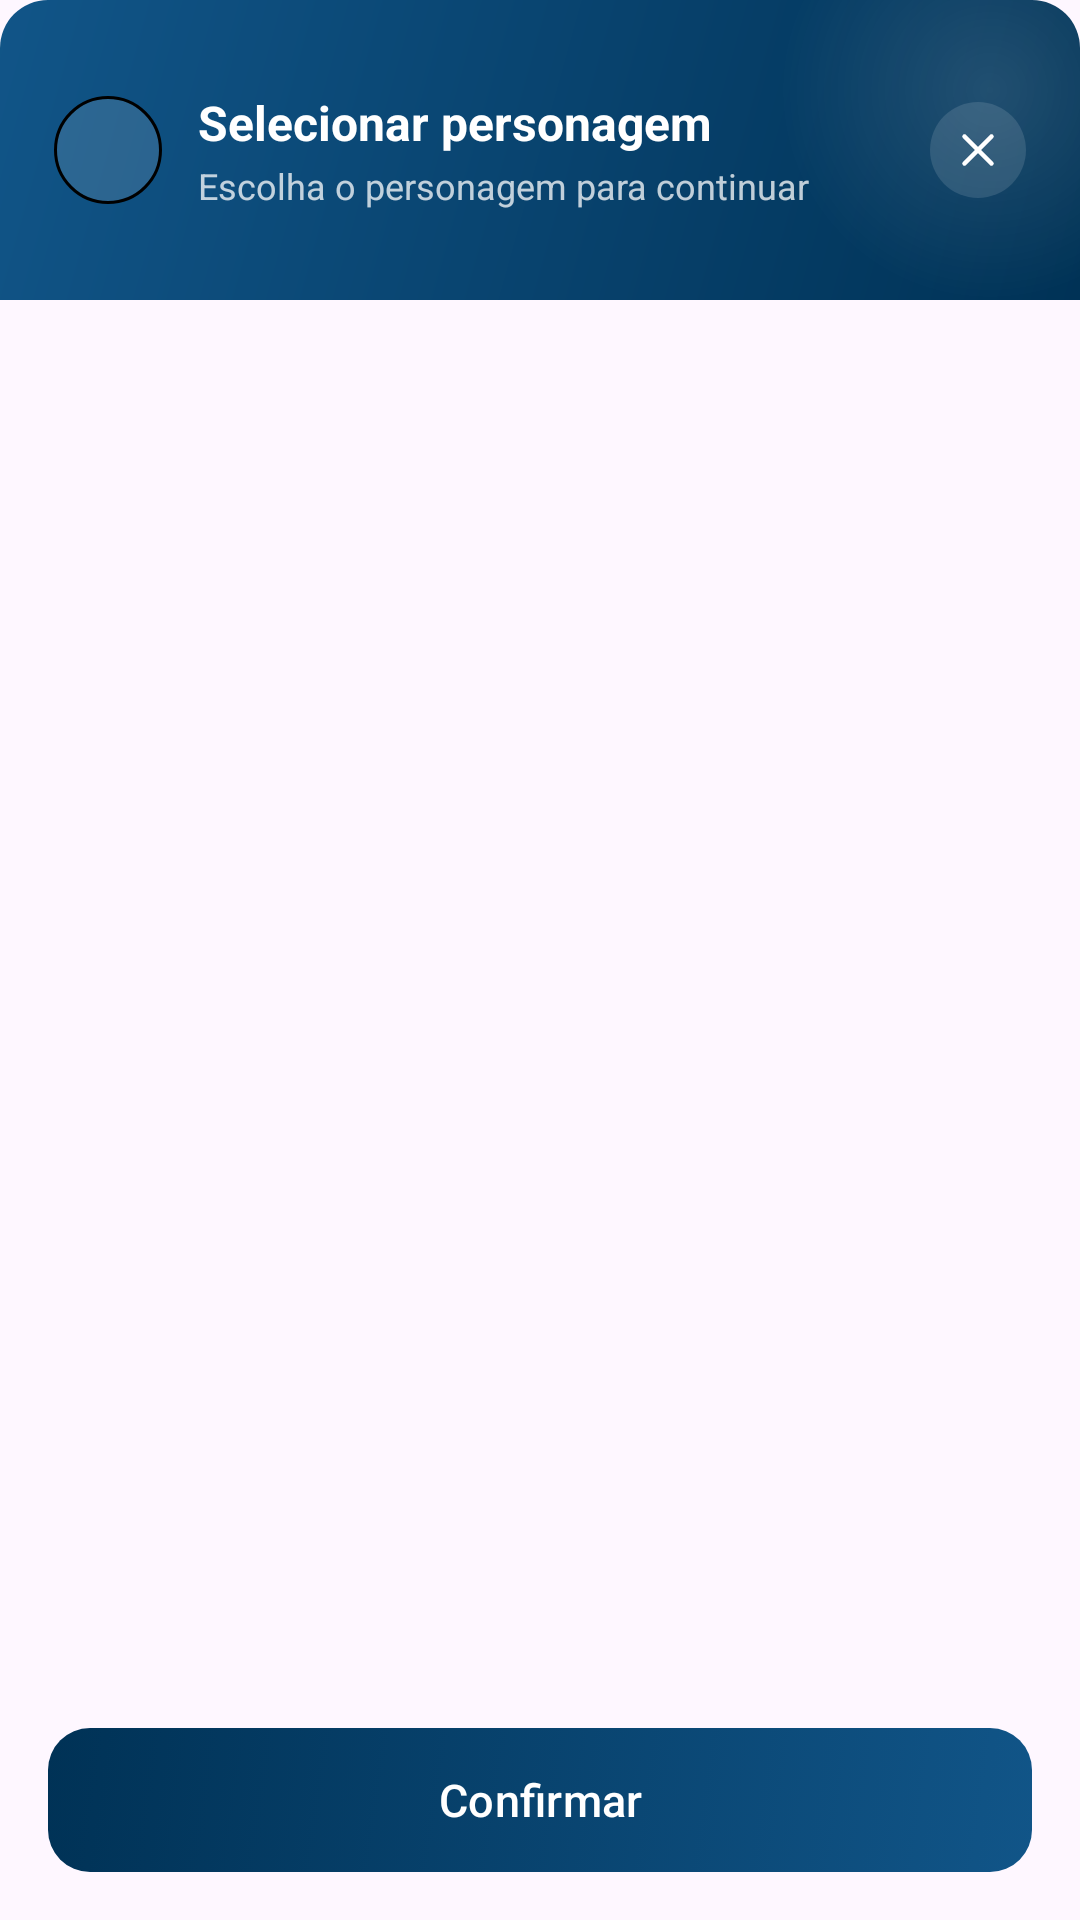

Locate icon controls on the screen. Image size 1080px×1920px, boxes as (x1, y1, x2, y2).
Fechar modal: (934, 102, 1023, 166)
